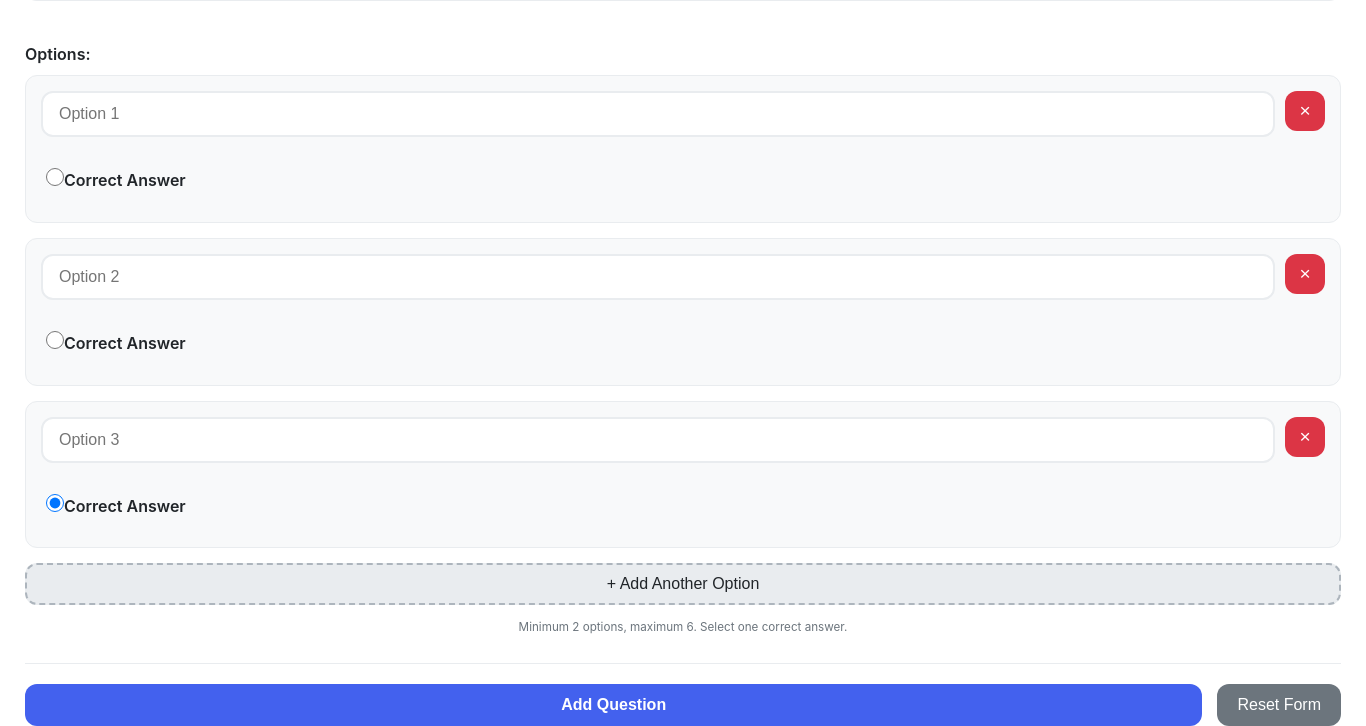
QuestionForm - Simple Tests › allows adding more options
The image size is (1366, 726).
(page scrolled)
Check: the number of fields with placeholder "Option 1" is 3, box [41,91,1275,137]; [41,254,1275,300]; [41,417,1275,463]
# Click add option button
Click the button "+ Add Another Option".
click(683, 584)  # box [25,563,1341,605]
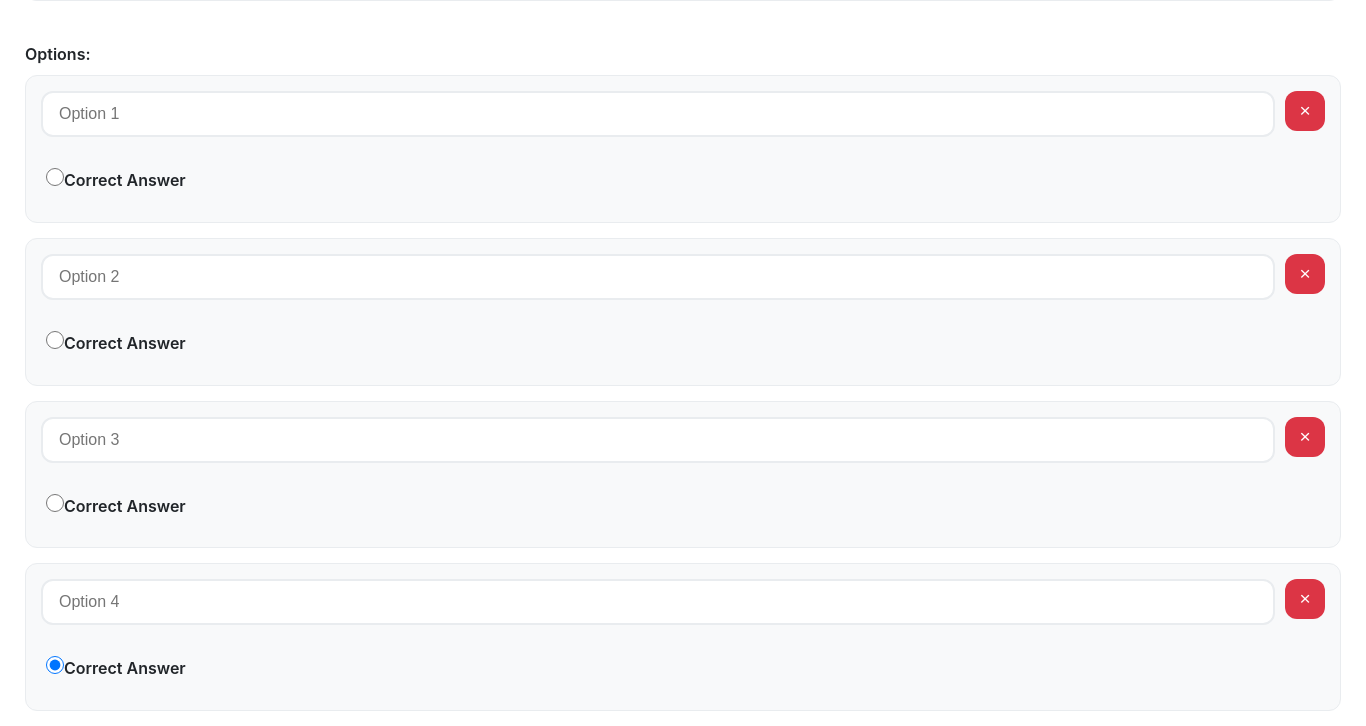
Check: the number of fields with placeholder "Option 1" is 4, box [41,91,1275,137]; [41,254,1275,300]; [41,417,1275,463]; [41,579,1275,625]
